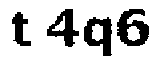4: (45, 7, 80, 49)
6: (117, 6, 149, 52)
q: (83, 14, 116, 60)
t: (8, 8, 35, 49)
